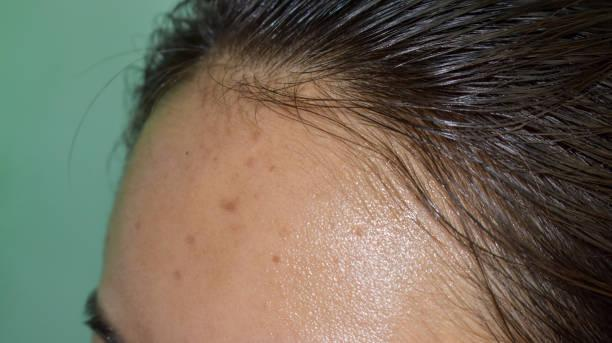Dry-Skin: (328, 170, 420, 282), (137, 135, 196, 271), (205, 235, 297, 303), (219, 158, 282, 225)
